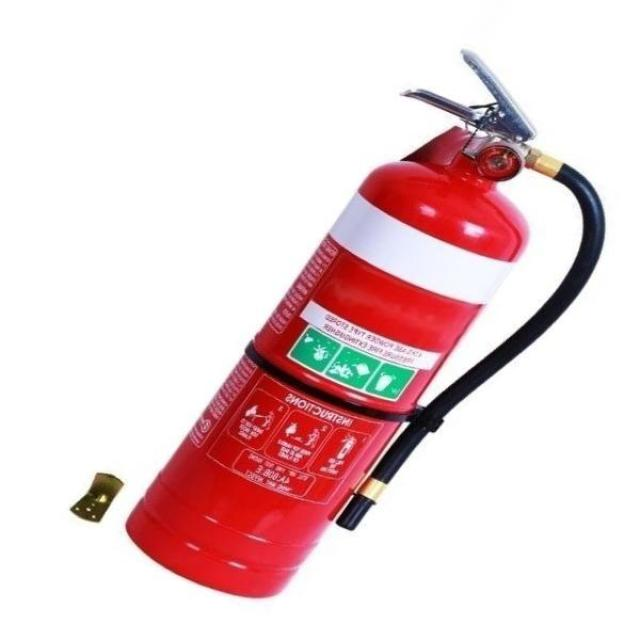fire_extinguisher: (114, 40, 611, 605)
